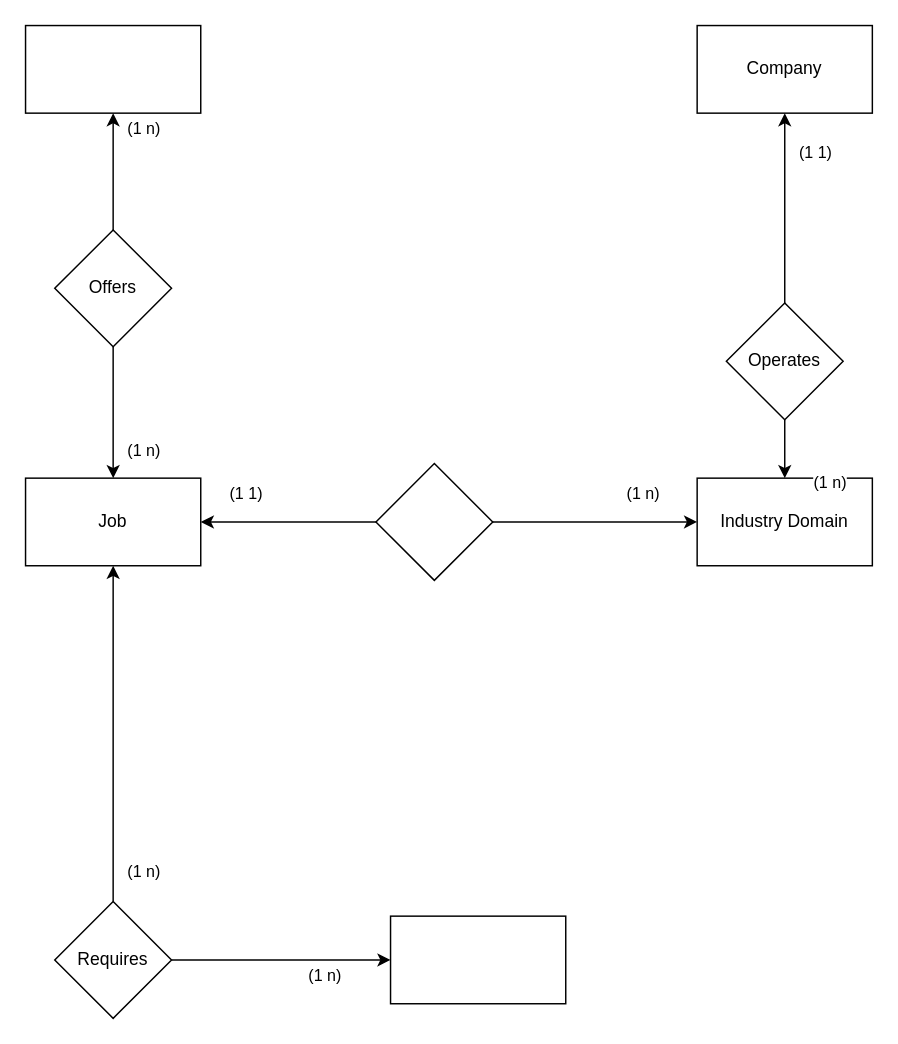
Some shapes in this 898 by 1044 pixel diagram are drawn without their labels. Here are the shapes that lost their labels. From the top down, the centre of each, then its label:
At (x=112, y=68): "Benefit".
At (x=433, y=521): "Belongs_to".
At (x=477, y=959): "Skills".
